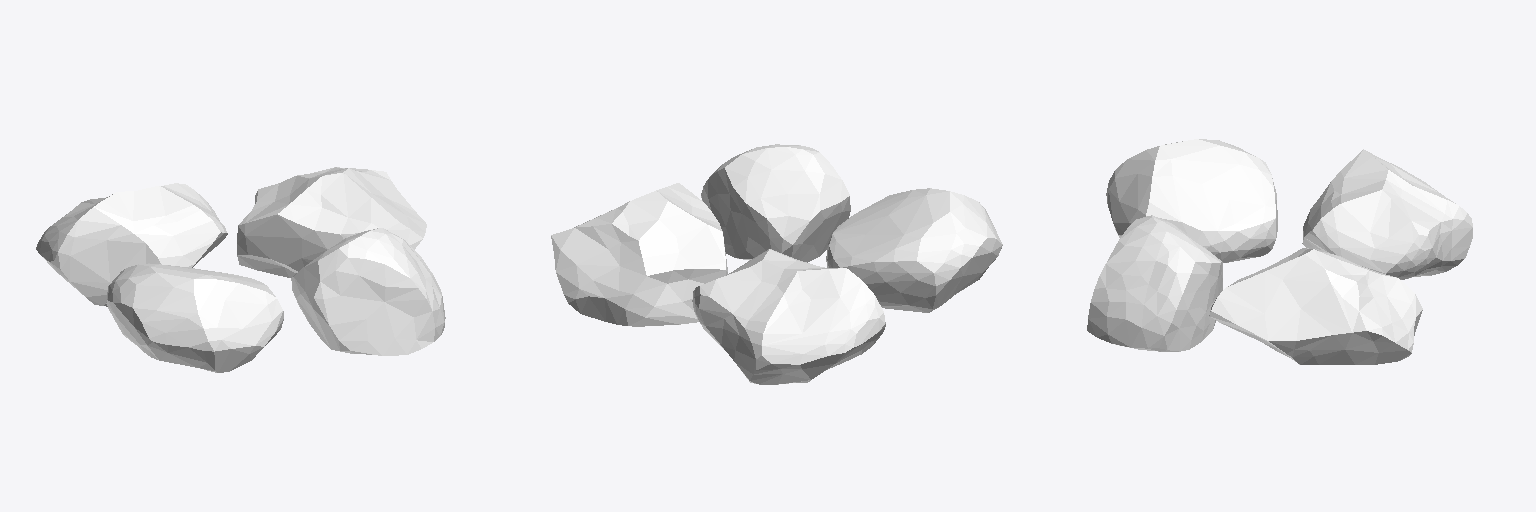
File: Asteroids.obj
3 views of the same model, side by side, from view 1: azimuth 30°, elevation 25°; view 2: azimuth 150°, elevation 25°; view 3: azimuth 270°, elevation 25° (orthographic).
Visible parts, largest first — view 1: Stone_04, Stone_01, Stone_02, Stone_03; view 2: Stone_03, Stone_02, Stone_01, Stone_04; view 3: Stone_03, Stone_01, Stone_02, Stone_04.
Part boxes in pixels (x1,y1,x2,y2): Stone_04: (291, 228, 445, 355); Stone_01: (106, 263, 283, 372); Stone_02: (36, 183, 227, 306); Stone_03: (237, 167, 426, 277); Stone_03: (551, 183, 727, 326); Stone_02: (692, 249, 885, 384); Stone_01: (826, 188, 1002, 312); Stone_04: (701, 144, 850, 262); Stone_03: (1209, 248, 1422, 364); Stone_01: (1106, 139, 1277, 262); Stone_02: (1302, 149, 1472, 279); Stone_04: (1087, 215, 1222, 351).
Size of the model in its own units: 267 by 79.16 by 256.